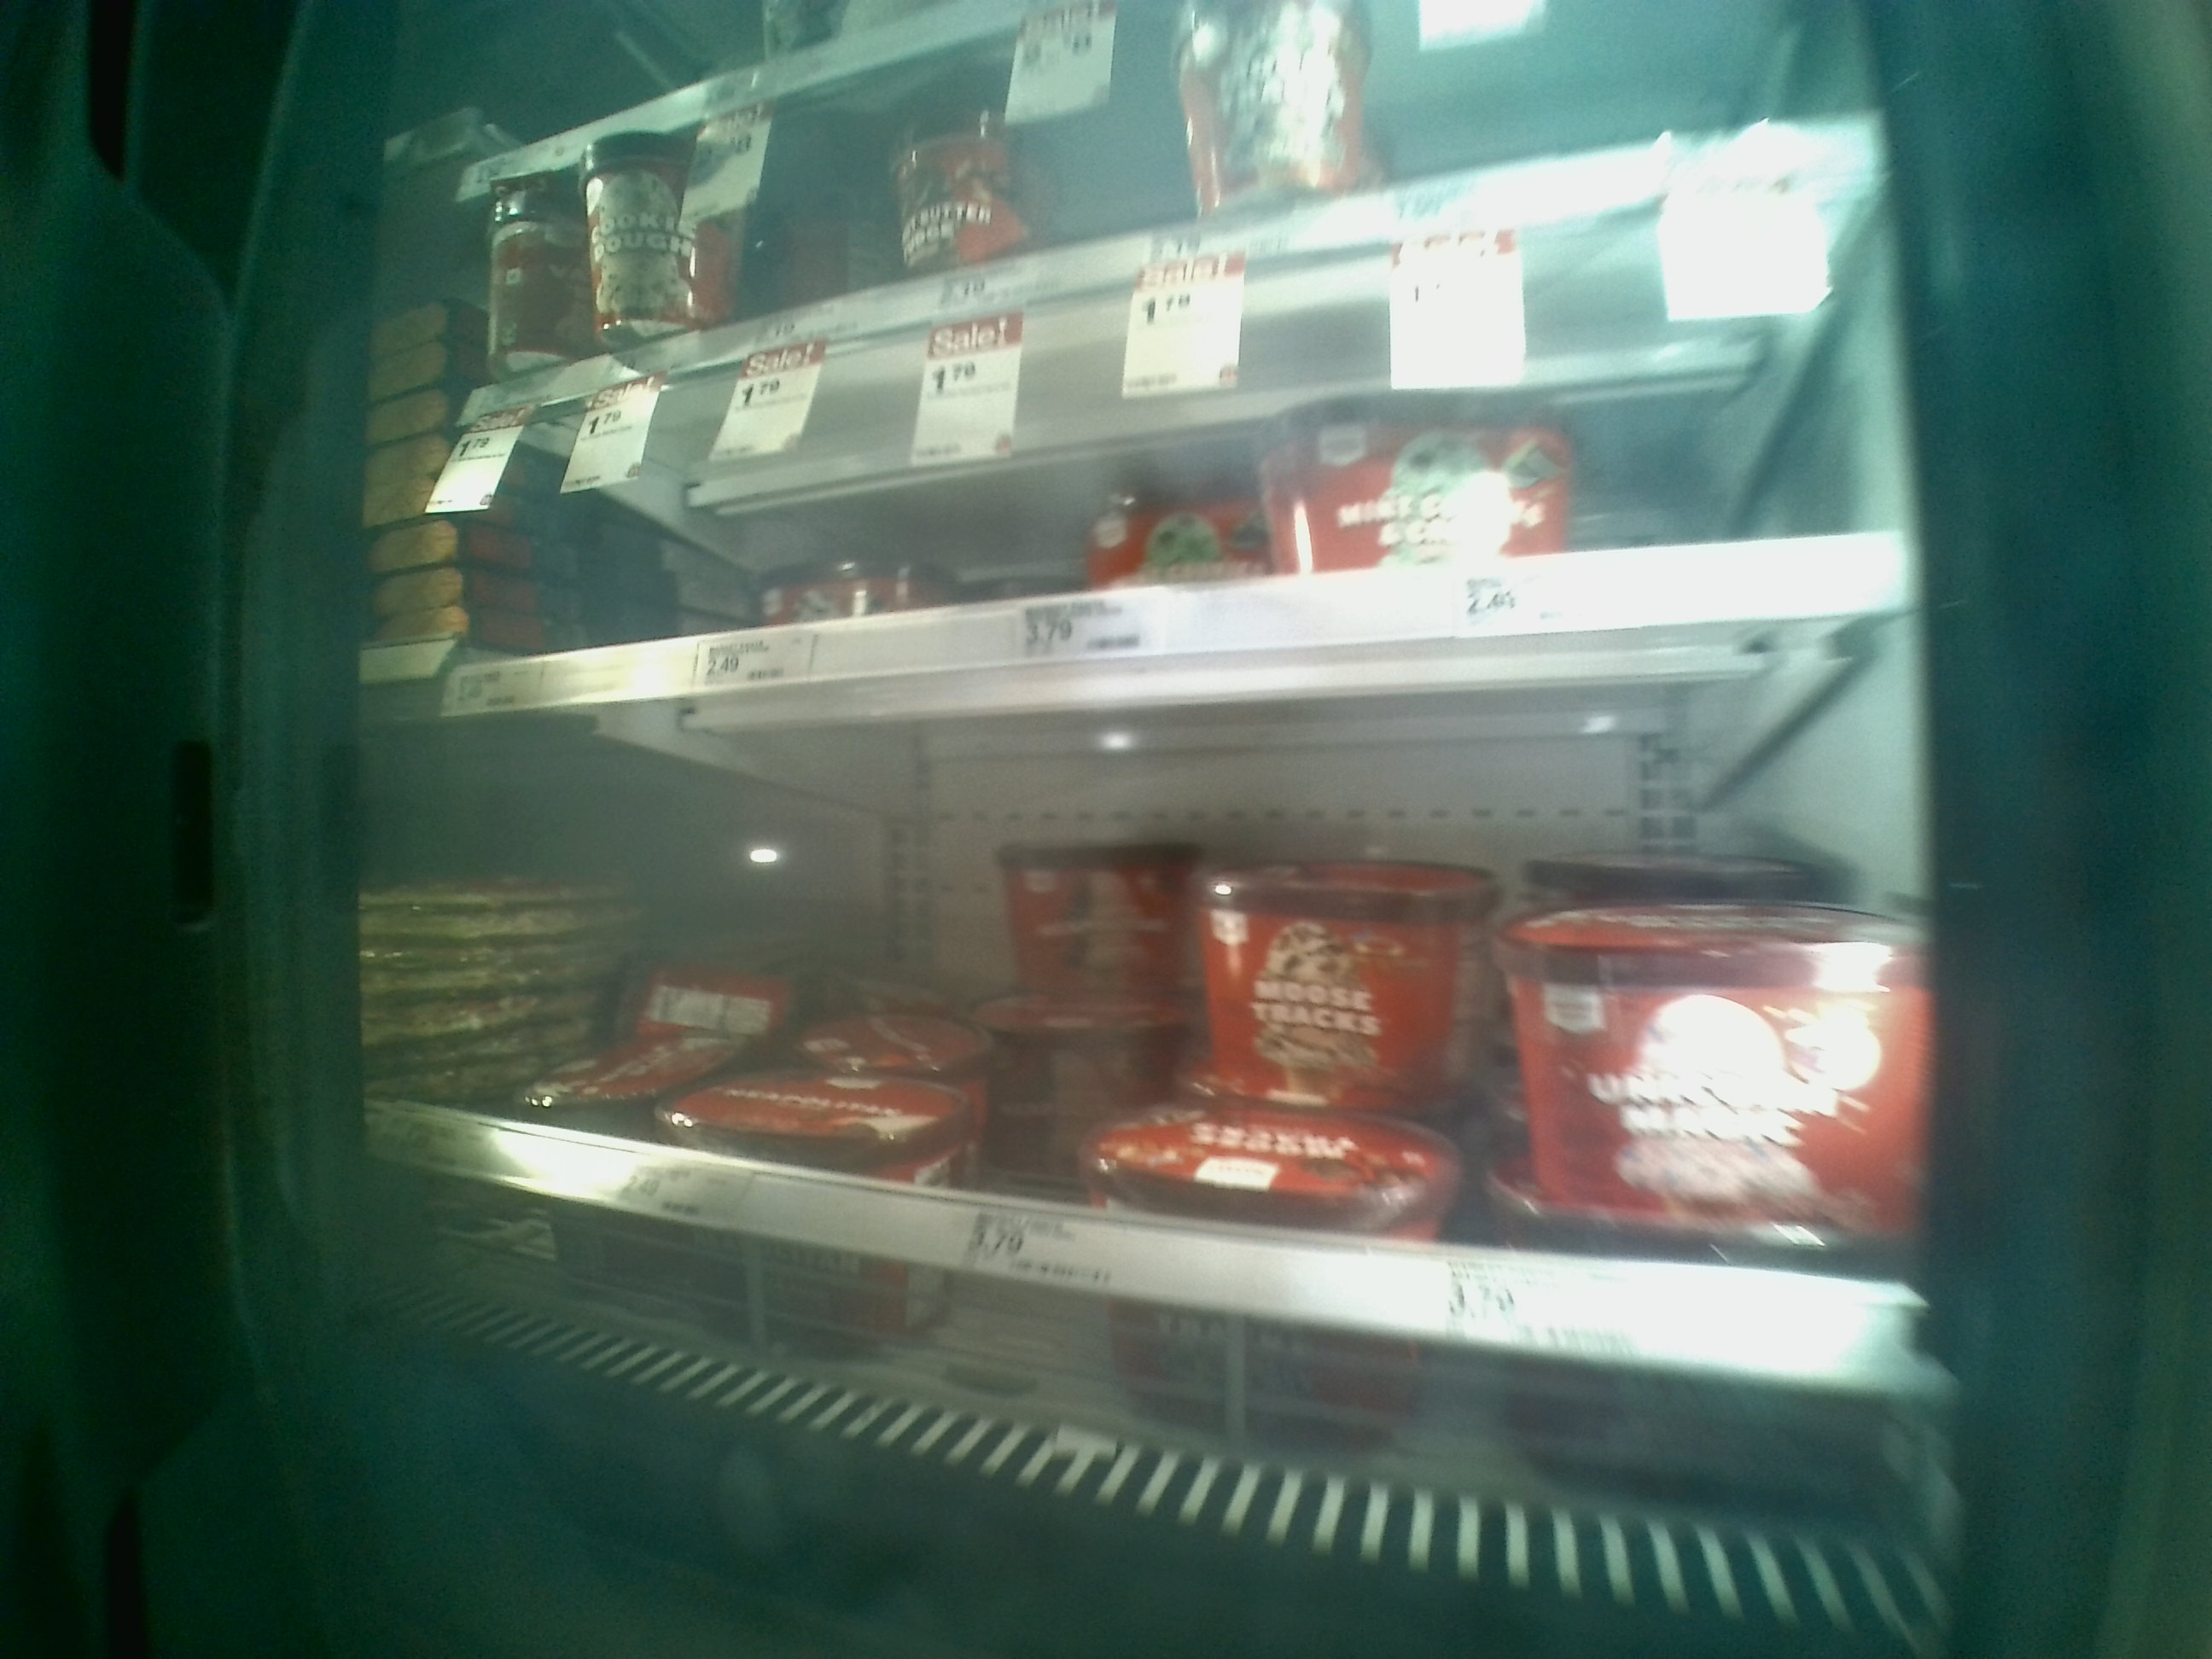shelf: (446, 613, 1923, 1401), (460, 186, 1907, 723)
